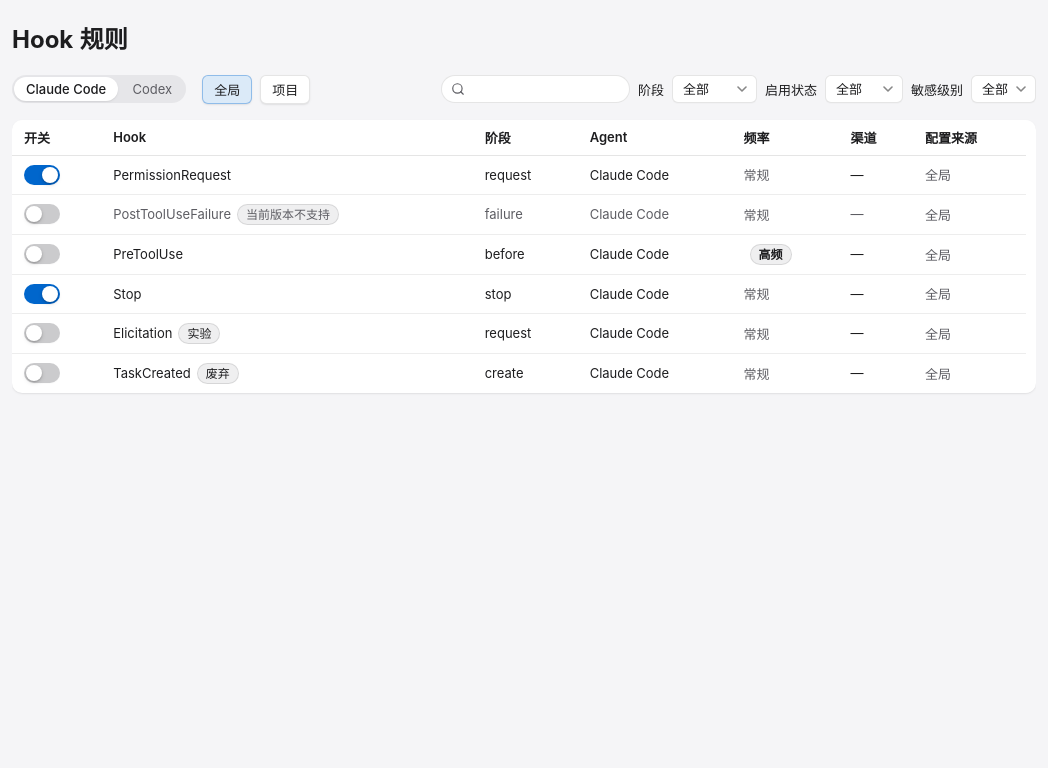
Scenario: drawer exposes segmented modes, numeric caps, privacy fields and quiet hours
Click the row "Stop stop Claude Code 常规 — 全局" at (519,294), box [12,275,1026,314]
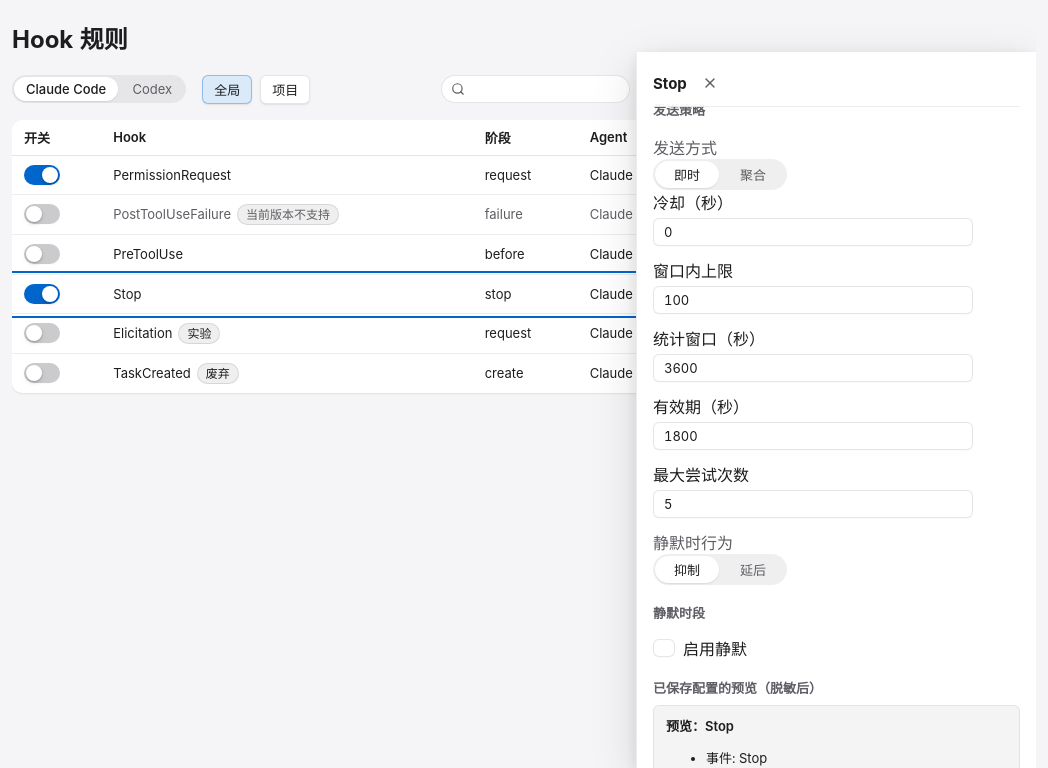
Check: the radio button labelled "即时" is checked, box [655,161,719,188]
Check: the radio button labelled "抑制" is checked, box [655,556,719,583]
Check: the number field labelled "冷却（秒）" holds "0", box [653,218,973,246]
